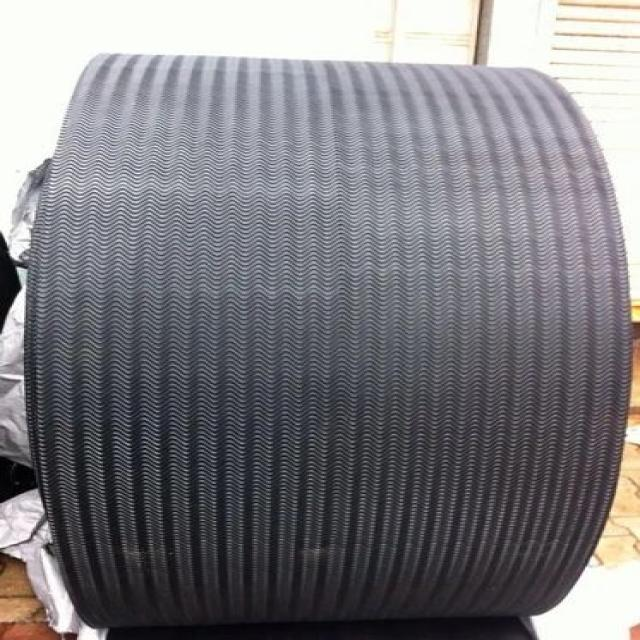conveyor: (17, 30, 634, 626)
